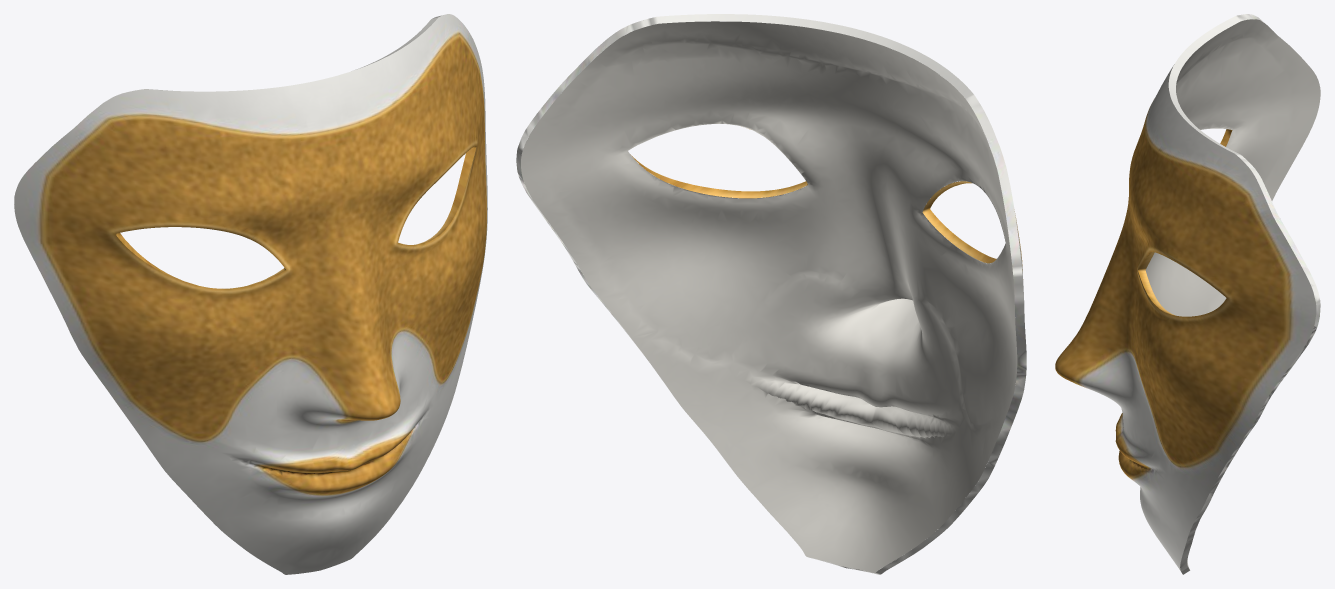
File: mask_don.glb
3 renders of one model, left to right at view 1: azimuth 30°, elevation 25°; view 2: azimuth 150°, elevation 25°; view 3: azimuth 270°, elevation 25°, orthographic. The views are drawn at different scales.
Visible parts, largest first — view 1: Mask_Baroque_Gold; view 2: Mask_Baroque_Gold; view 3: Mask_Baroque_Gold.
Part boxes in pixels (x1,y1,x2,y2): Mask_Baroque_Gold: (14, 14, 487, 574); Mask_Baroque_Gold: (516, 14, 1026, 574); Mask_Baroque_Gold: (1055, 14, 1320, 574).
Bounding box in the file's own units: 0.161 × 0.1624 × 0.0818.
Materials: 2 (1 with a texture image).
